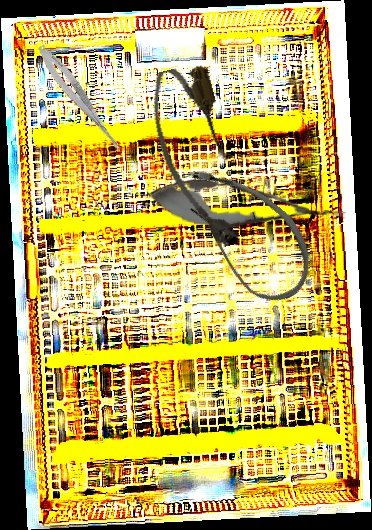Cannula: (156, 152, 333, 316), (142, 60, 251, 257)
Micro Scissor: (142, 172, 350, 240), (32, 41, 133, 160)
